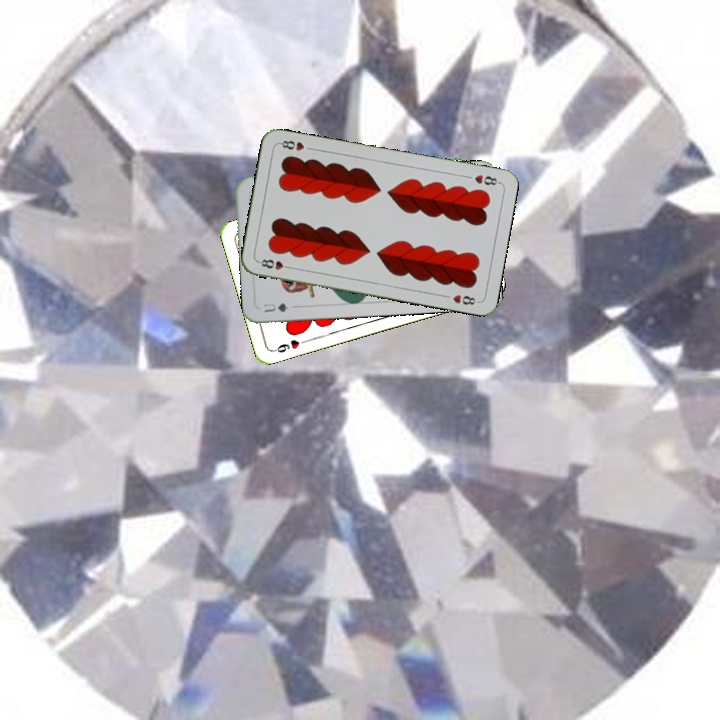GU: (259, 299, 291, 315)
H8: (255, 255, 295, 272), (471, 170, 502, 188)
H9: (269, 335, 309, 355)
